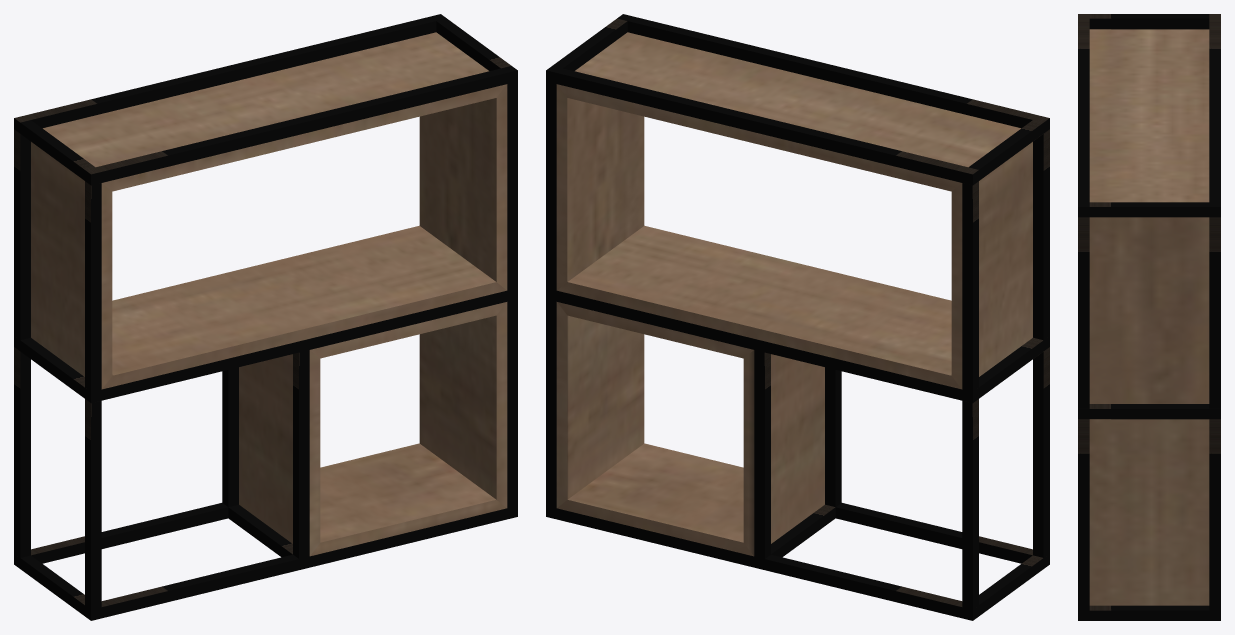
The model's file is Modular Shelf.fbx.
3 views of the same model, side by side, from view 1: azimuth 30°, elevation 25°; view 2: azimuth 150°, elevation 25°; view 3: azimuth 270°, elevation 25° (orthographic). The views are drawn at different scales.
Parts seen in each view (by area): view 1: Modular Shelf; view 2: Modular Shelf; view 3: Modular Shelf.
Boxes of the visible parts, x1,y1,x2,y2 form: Modular Shelf: (14,14,517,620); Modular Shelf: (546,14,1049,620); Modular Shelf: (1078,14,1220,620).
Bounding box in the file's own units: 80 × 80 × 25.
